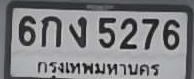2: (119, 17, 136, 48)
5: (98, 16, 115, 46)
6: (162, 18, 179, 49), (18, 14, 35, 44)
7: (141, 17, 158, 49)
A01: (40, 15, 61, 46)
A07: (68, 16, 86, 46)
BKK: (34, 57, 161, 79)
